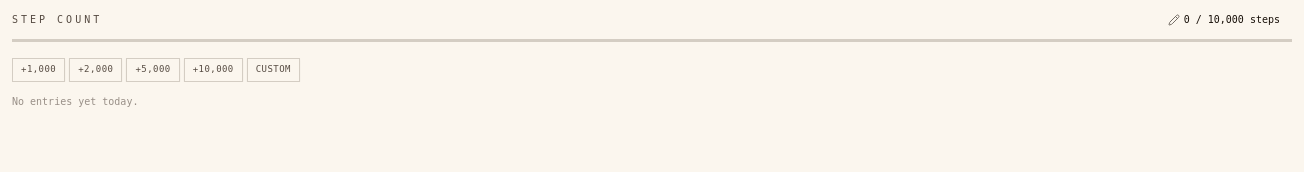
Test: StepTracker component › allows editing the step goal
The width and height of the screenshot is (1304, 172).
Click the button "0 / 10,000 steps" at (1224, 20), box [1156,12,1292,27]
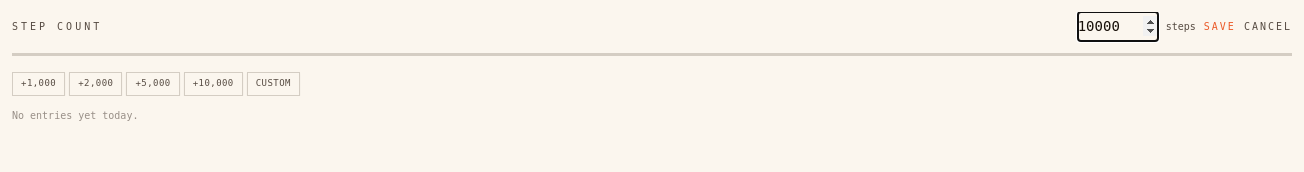
Expected: the number field showing "10000" is shown, [1078,12,1158,41]
Expected: the button "Save" is shown, [1204,19,1236,34]
Expected: the button "Cancel" is shown, [1244,19,1292,34]
